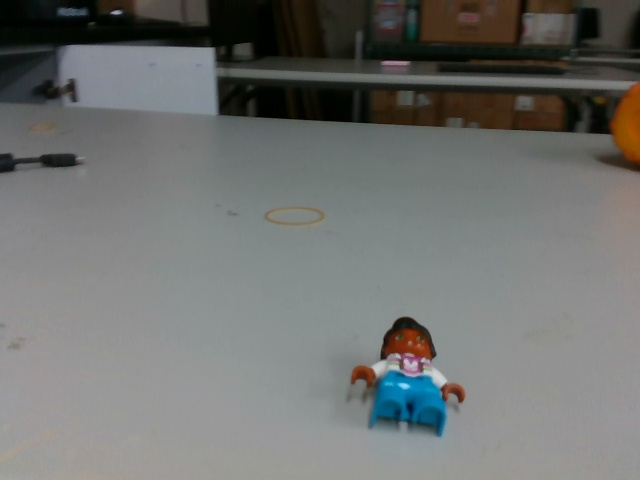people: (346, 314, 467, 436)
